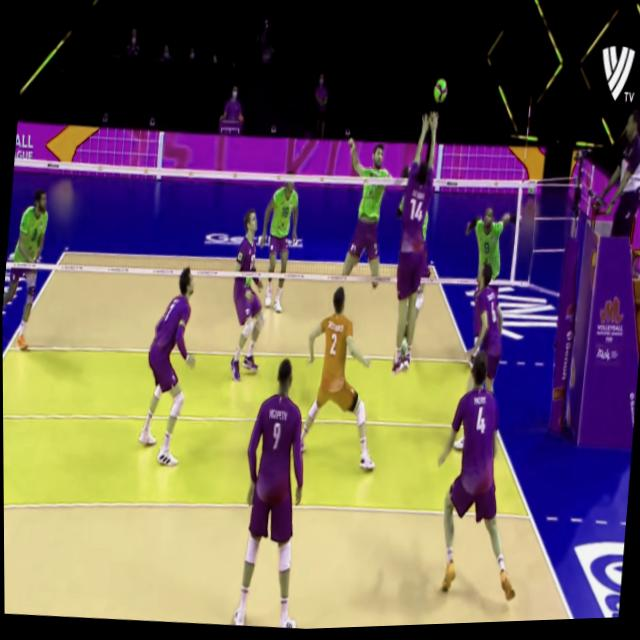player: (426, 350, 533, 604), (232, 353, 315, 632), (292, 284, 388, 483), (136, 265, 206, 473), (390, 111, 439, 379), (332, 133, 398, 289), (222, 207, 274, 390), (1, 186, 49, 360), (462, 263, 510, 417), (255, 176, 304, 318), (460, 207, 520, 297)
